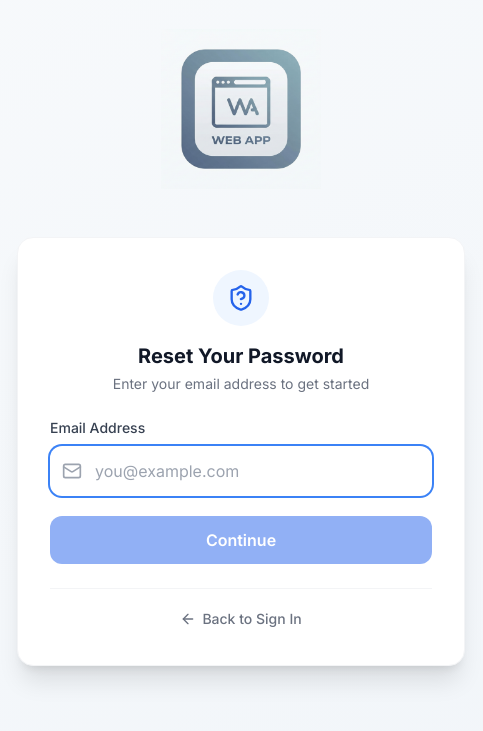
Test: ForgotPasswordPage › shows error on API failure
Step 1. Type "user@example.com" into the field with placeholder "you@example.com" → (241, 470), box [50, 446, 432, 496]
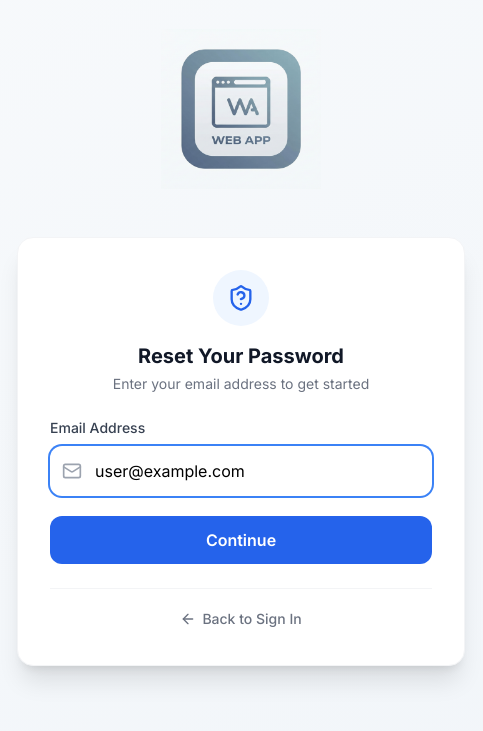
Step 2. Click the button "Continue" → (241, 540), box [50, 516, 432, 564]
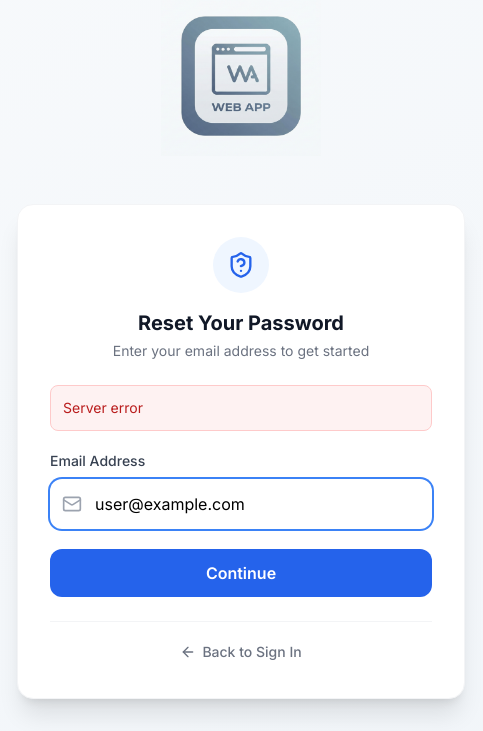
Expected: the text "Server error" is shown, [50, 384, 432, 430]
